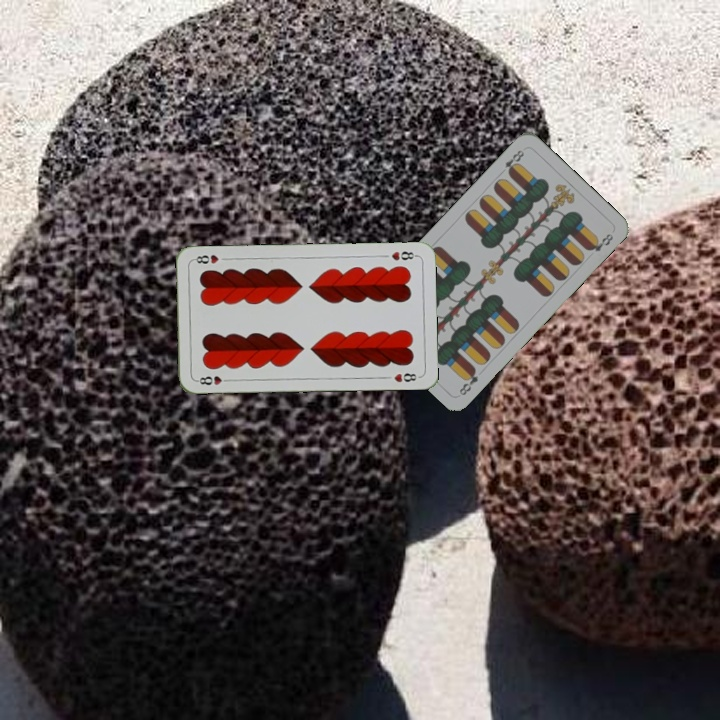E8: (496, 146, 527, 177), (455, 364, 481, 398)
H8: (193, 372, 233, 387), (387, 247, 419, 263)
